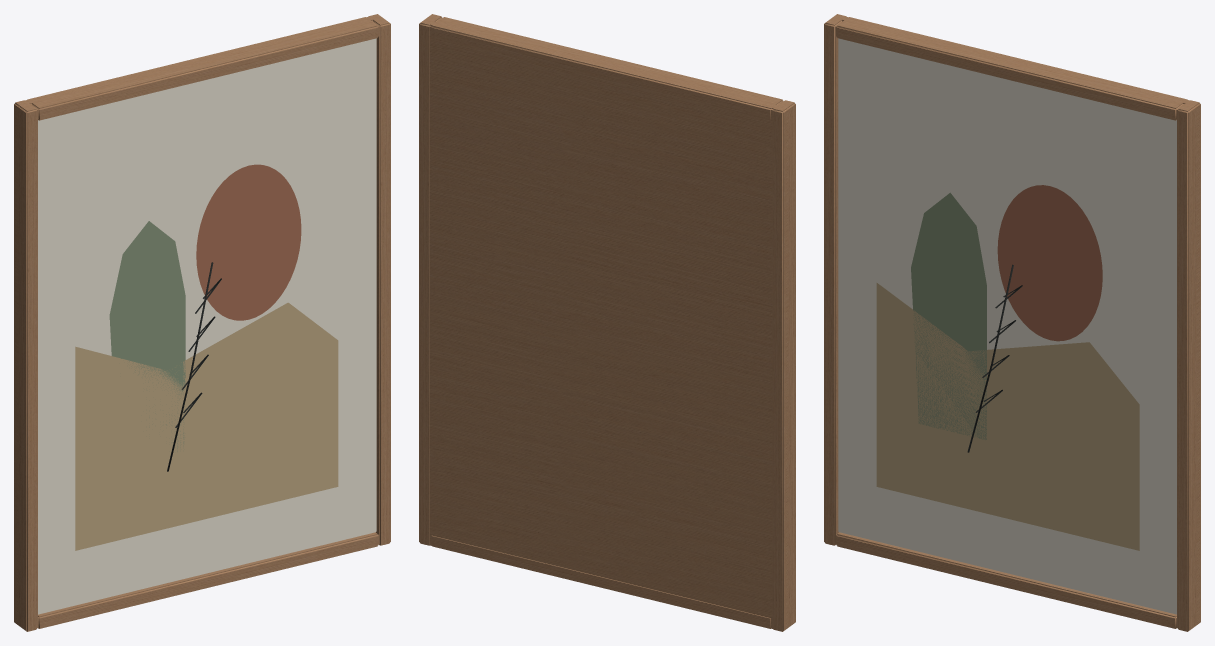
File: contemporary.art.gltf
3 renders of one model, left to right at view 1: azimuth 30°, elevation 25°; view 2: azimuth 150°, elevation 25°; view 3: azimuth 330°, elevation 25°, orthographic.
Parts seen in each view (by area): view 1: contemporary.art.backing; view 2: contemporary.art.backing; view 3: contemporary.art.backing.
Boxes of the visible parts, <box> form: contemporary.art.backing: <box>14,14,390,631</box>; contemporary.art.backing: <box>419,14,795,631</box>; contemporary.art.backing: <box>824,14,1200,631</box>.
Size of the model in its own units: 0.55 by 0.75 by 0.035.
6 materials, 1 textured.
